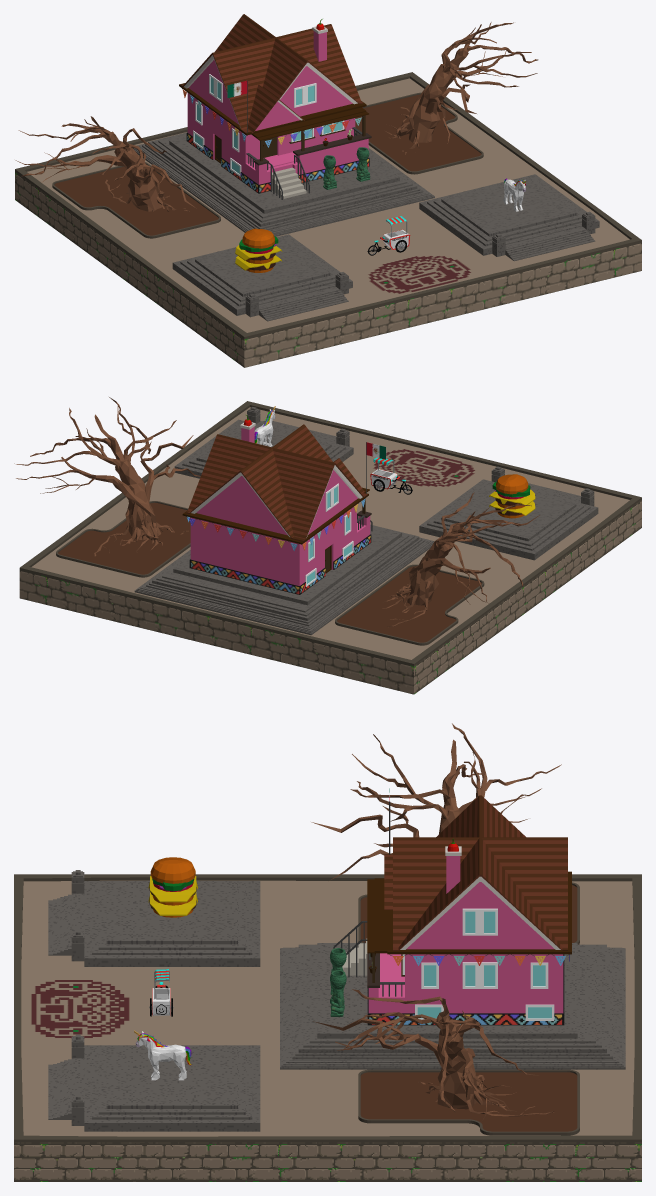
The picture shows the model from 3 angles, top to bottom: view 1: azimuth 30°, elevation 25°; view 2: azimuth 150°, elevation 25°; view 3: azimuth 270°, elevation 25°; orthographic projection. The views are drawn at different scales.
Visible parts, largest first — view 1: Cube.011, Cube.1005, OBJRANDOM_HAMBURGER, VEHICLES_SNOWBAL_BIKE, ANIMAL_UNICORNIO; view 2: Cube.011, Cube.1005, OBJRANDOM_HAMBURGER, VEHICLES_SNOWBAL_BIKE, ANIMAL_UNICORNIO; view 3: Cube.011, Cube.1005, OBJRANDOM_HAMBURGER, ANIMAL_UNICORNIO, VEHICLES_SNOWBAL_BIKE.
Part boxes in pixels (x1=…): Cube.011: x1=15, y1=22, x2=641, y2=367; Cube.1005: x1=179, y1=14, x2=371, y2=199; OBJRANDOM_HAMBURGER: x1=235, y1=228, x2=282, y2=272; VEHICLES_SNOWBAL_BIKE: x1=367, y1=216, x2=410, y2=255; ANIMAL_UNICORNIO: x1=503, y1=178, x2=526, y2=211; Cube.011: x1=14, y1=397, x2=641, y2=694; Cube.1005: x1=182, y1=415, x2=386, y2=594; OBJRANDOM_HAMBURGER: x1=489, y1=474, x2=535, y2=518; VEHICLES_SNOWBAL_BIKE: x1=370, y1=457, x2=412, y2=494; ANIMAL_UNICORNIO: x1=254, y1=406, x2=275, y2=446; Cube.011: x1=14, y1=723, x2=641, y2=1181; Cube.1005: x1=333, y1=788, x2=571, y2=1025; OBJRANDOM_HAMBURGER: x1=148, y1=857, x2=197, y2=917; ANIMAL_UNICORNIO: x1=134, y1=1030, x2=191, y2=1080; VEHICLES_SNOWBAL_BIKE: x1=149, y1=969, x2=173, y2=1016.
Size of the model in its own units: 5099 by 1745 by 4000.
Materials: 78 (7 with a texture image).
